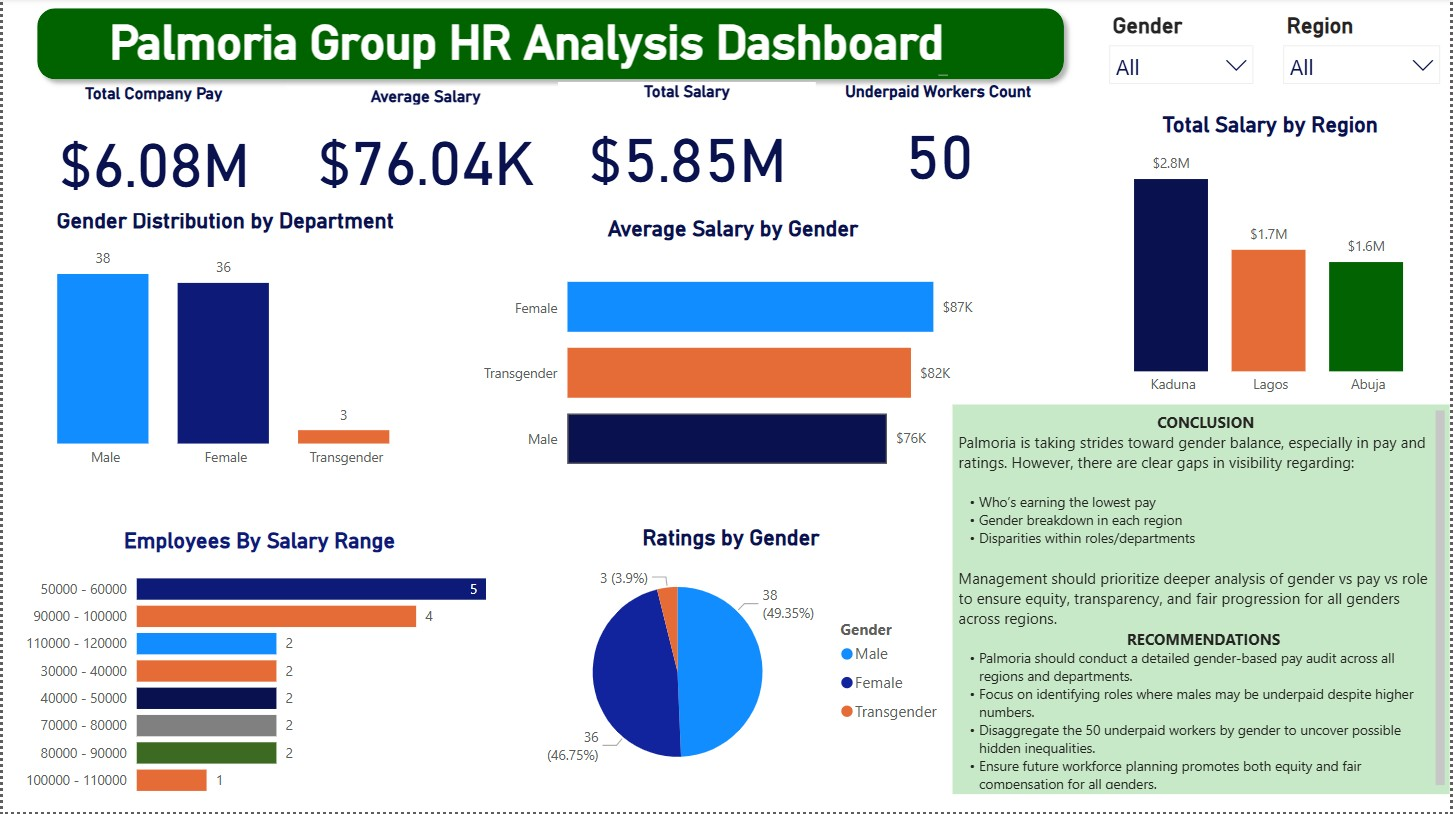

The dashboard page shown, as its layout file describes it:
{"tool":"powerbi","page":{"name":"Page 1","canvas":[1280,720],"ordinal":0},"visuals":[{"type":"clusteredColumnChart","title":"Gender Distribution by Department","fields":{"Y":["Palmoria Group emp-data (2).Department"],"Category":["Palmoria Group emp-data (2).Gender"]},"box":[0,186.2,393.5,238],"z":0},{"type":"pieChart","title":"Ratings by Gender","fields":{"Category":["Palmoria Group emp-data (2).Gender"],"Y":["Palmoria Group emp-data (2).Rating"]},"box":[446.9,466.3,393.5,238],"z":1000},{"type":"barChart","title":"Average Salary by Gender","fields":{"Y":["#Palmoria_Measures.Average_Salary"],"Category":["Palmoria Group emp-data (2).Gender"]},"box":[414.4,192.2,463.3,250],"z":2000},{"type":"card","title":"Underpaid Workers Count","fields":{"Values":["#Palmoria_Measures.Below_Minimum"]},"box":[723.8,74.5,205.6,103.6],"z":3000},{"type":"clusteredBarChart","title":"Employees By Salary Range","fields":{"Category":["Palmoria Group emp-data (2).Salary_Band"],"Y":["Palmoria Group emp-data (2).Name"]},"box":[7.8,468.9,437.8,247.8],"z":4000},{"type":"card","title":"Total Company Pay","fields":{"Values":["#Palmoria_Measures.Total_Company_Pay"]},"box":[30.8,76.1,205.6,115],"z":5000},{"type":"columnChart","title":"Total Salary by Region","fields":{"Category":["Palmoria Group emp-data (2).Location"],"Y":["Palmoria Group emp-data (2).Total_Salary"]},"box":[960.2,100.4,320.6,259.1],"z":6000},{"type":"shape","box":[21,0,926.2,81],"z":7000},{"type":"textbox","title":"Palmoria Visualization ","box":[158.7,14.6,578.1,66.4],"z":8000},{"type":"slicer","fields":{"Values":["Palmoria Group emp-data (2).Location"]},"box":[1122.1,8.1,158.7,81],"z":9000},{"type":"slicer","fields":{"Values":["Palmoria Group emp-data (2).Gender"]},"box":[968.3,8.1,147.3,72.9],"z":10000},{"type":"card","title":"Average Salary","fields":{"Values":["#Palmoria_Measures.Average_Salary"]},"box":[251,77.7,246.1,105.2],"z":11000},{"type":"card","title":"Total Salary","fields":{"Values":["#Palmoria_Measures.Total Salary"]},"box":[490.6,74.5,228.3,108.5],"z":12000},{"type":"textbox","box":[840.4,359.5,440.4,344.9],"z":13000}]}

Visuals, with their boxes in screenshot pixels (x1, y1, x2, y2), scaled from the page's 1280x720 canvas onto the 1453x814 screenshot:
"Gender Distribution by Department" clusteredColumnChart: {"left": 0, "top": 211, "right": 447, "bottom": 480}
"Ratings by Gender" pieChart: {"left": 507, "top": 527, "right": 954, "bottom": 796}
"Average Salary by Gender" barChart: {"left": 470, "top": 217, "right": 996, "bottom": 500}
"Underpaid Workers Count" card: {"left": 822, "top": 84, "right": 1055, "bottom": 201}
"Employees By Salary Range" clusteredBarChart: {"left": 9, "top": 530, "right": 506, "bottom": 810}
"Total Company Pay" card: {"left": 35, "top": 86, "right": 268, "bottom": 216}
"Total Salary by Region" columnChart: {"left": 1090, "top": 114, "right": 1452, "bottom": 406}
shape: {"left": 24, "top": 0, "right": 1075, "bottom": 92}
"Palmoria Visualization " textbox: {"left": 180, "top": 17, "right": 836, "bottom": 92}
slicer - Palmoria Group emp-data (2).Location: {"left": 1274, "top": 9, "right": 1452, "bottom": 101}
slicer - Palmoria Group emp-data (2).Gender: {"left": 1099, "top": 9, "right": 1266, "bottom": 92}
"Average Salary" card: {"left": 285, "top": 88, "right": 564, "bottom": 207}
"Total Salary" card: {"left": 557, "top": 84, "right": 816, "bottom": 207}
textbox: {"left": 954, "top": 406, "right": 1452, "bottom": 796}
